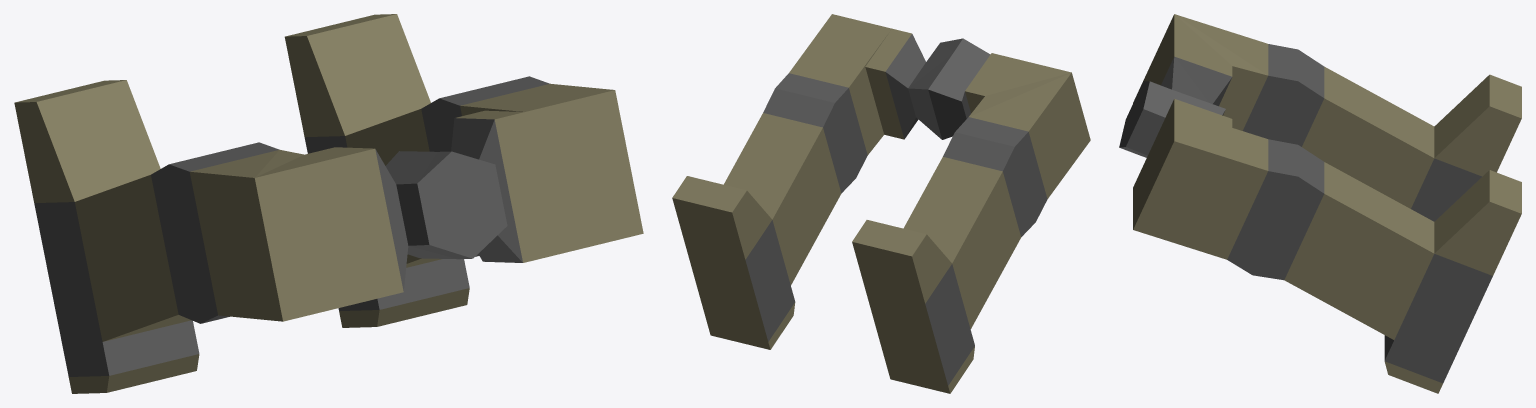
The model's file is legs1-2.obj.
The picture shows the model from 3 angles, left to right: view 1: azimuth 30°, elevation 25°; view 2: azimuth 150°, elevation 25°; view 3: azimuth 270°, elevation 25°; orthographic projection. The views are drawn at different scales.
Parts seen in each view (by area): view 1: MechLegs1; view 2: MechLegs1; view 3: MechLegs1.
Boxes of the visible parts, x1,y1,x2,y2 form: MechLegs1: (14, 14, 643, 393); MechLegs1: (672, 14, 1090, 393); MechLegs1: (1119, 14, 1521, 393).
Bounding box in the file's own units: 4.68 × 4.34 × 6.26.
1 material, 1 textured.
